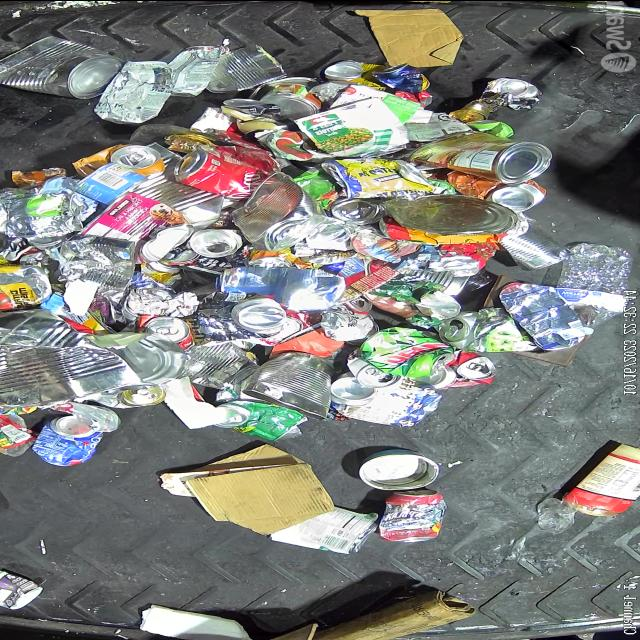can: (0, 306, 144, 409), (75, 190, 193, 264), (0, 34, 128, 99), (409, 130, 554, 184), (229, 170, 324, 252), (242, 350, 336, 419), (329, 371, 442, 427), (268, 504, 378, 554), (359, 325, 456, 377), (172, 148, 264, 200), (56, 234, 138, 290), (320, 156, 432, 197), (447, 169, 548, 212), (177, 340, 261, 390), (31, 414, 106, 466), (208, 43, 284, 93), (378, 488, 448, 542), (216, 401, 308, 441), (6, 191, 84, 237), (358, 448, 440, 490), (72, 161, 150, 204), (330, 59, 430, 92), (437, 308, 512, 351), (167, 44, 229, 96), (418, 349, 498, 389), (72, 143, 166, 177), (500, 233, 570, 269), (258, 82, 322, 120), (346, 347, 404, 386), (483, 76, 543, 110), (232, 296, 288, 332), (90, 383, 168, 408), (222, 96, 290, 124), (190, 227, 252, 256), (142, 315, 194, 349), (325, 58, 371, 80), (446, 98, 492, 120), (160, 242, 203, 264)
plastic_bottle: (556, 242, 630, 334)
